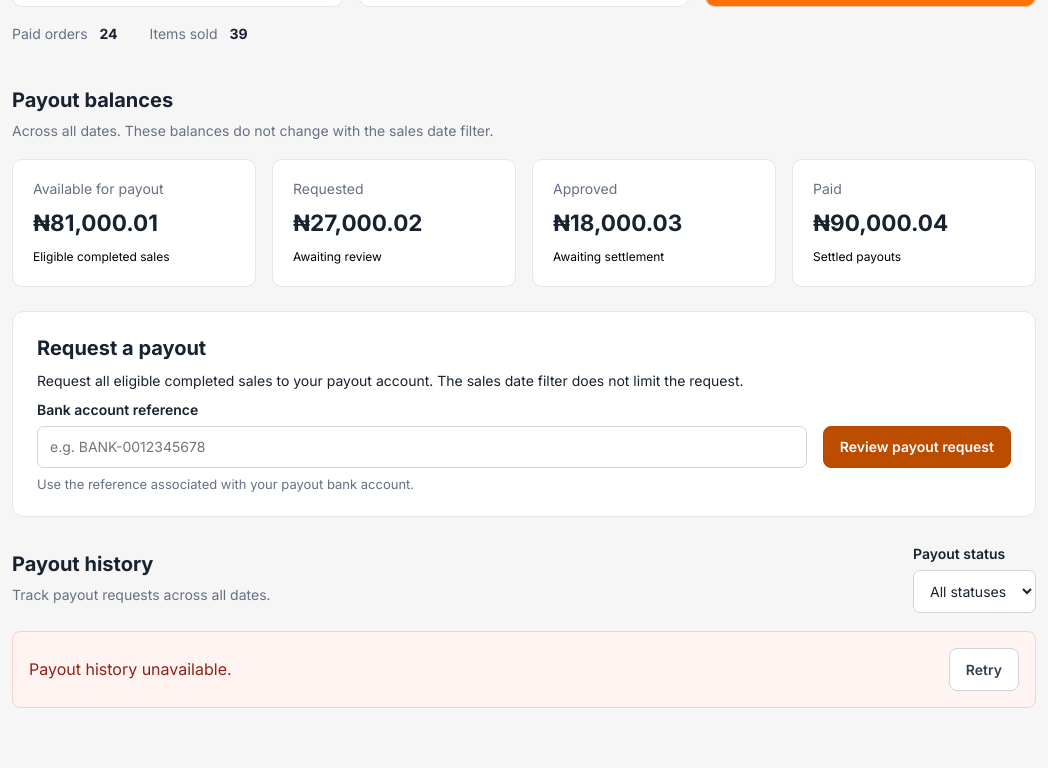
Test: keeps the summary visible when history fails, and retries history
This screenshot has width=1048, height=768.
(page scrolled)
Expected: the message shows "Payout history unavailable.", [29, 659, 232, 679]
Click the button "Retry".
click(984, 669)  # box [949, 648, 1019, 691]
(page scrolled)
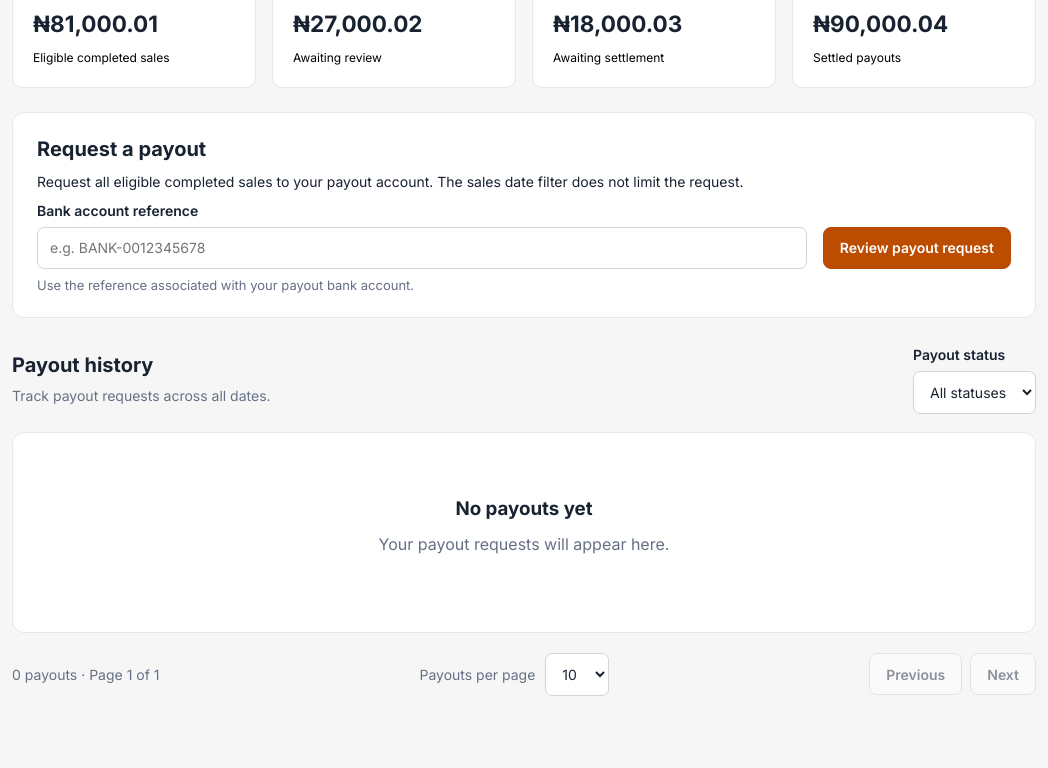
Expected: the heading "No payouts yet" is shown, [455, 497, 593, 520]
Expected: the button "Next" is disabled, [970, 653, 1036, 695]
